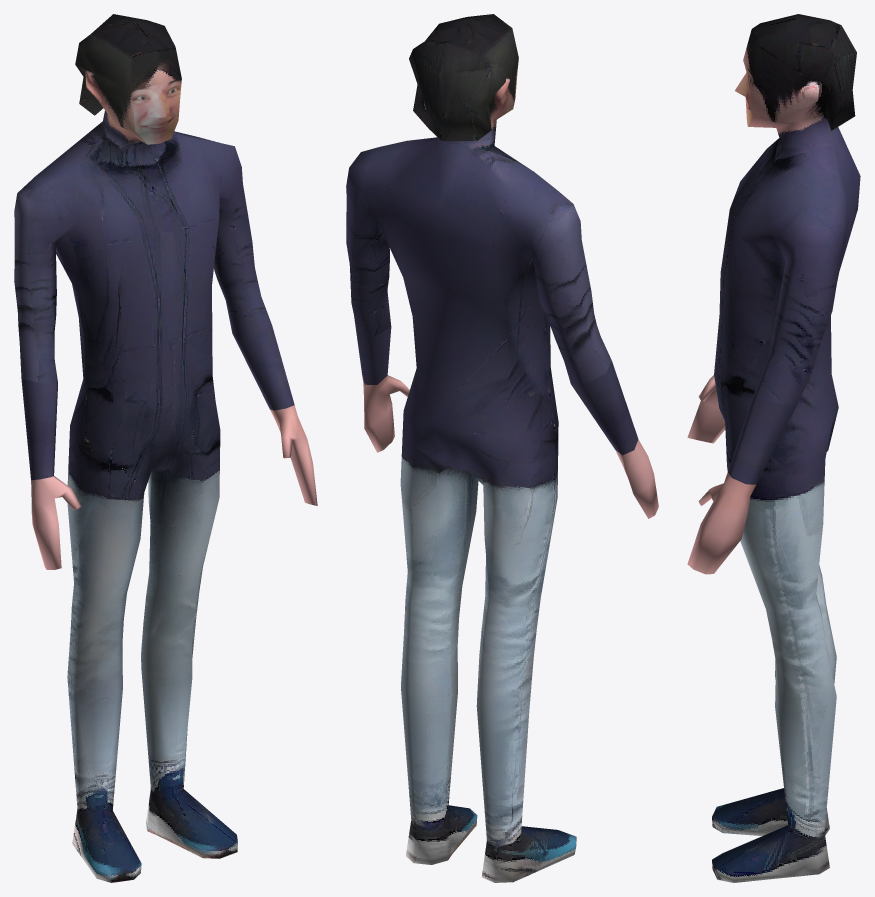
File: komiker.glb
3 views of the same model, side by side, from view 1: azimuth 30°, elevation 25°; view 2: azimuth 150°, elevation 25°; view 3: azimuth 270°, elevation 25° (orthographic). The views are drawn at different scales.
Parts seen in each view (by area): view 1: komiker; view 2: komiker; view 3: komiker.
Part boxes in pixels (left/top/right/bottom): komiker: left=14, top=14, right=317, bottom=882; komiker: left=346, top=14, right=658, bottom=882; komiker: left=687, top=14, right=860, bottom=882.
Bounding box in the file's own units: 0.7015 × 2 × 0.3778.
Materials: 2 (2 with a texture image).
